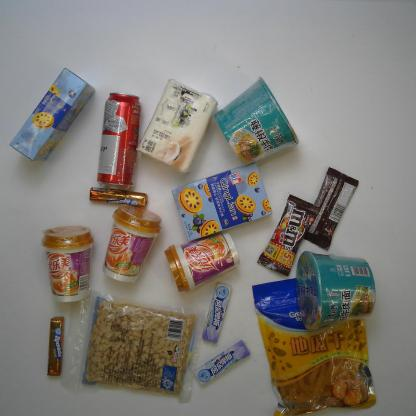Alcohol: (90, 91, 145, 190)
Candy: (193, 337, 251, 388), (202, 281, 234, 344), (87, 180, 149, 209), (44, 315, 67, 378)
Chocolate: (256, 193, 322, 278), (303, 164, 359, 252)
Dessert: (10, 66, 96, 163), (171, 161, 272, 243)
Dried Fruit: (252, 274, 379, 416), (59, 288, 209, 404)
Instant Drink: (99, 202, 163, 286), (164, 231, 242, 294), (41, 223, 94, 304)
Instant Noodles: (212, 75, 302, 169), (294, 247, 380, 334)
Tissue: (134, 77, 218, 176)
